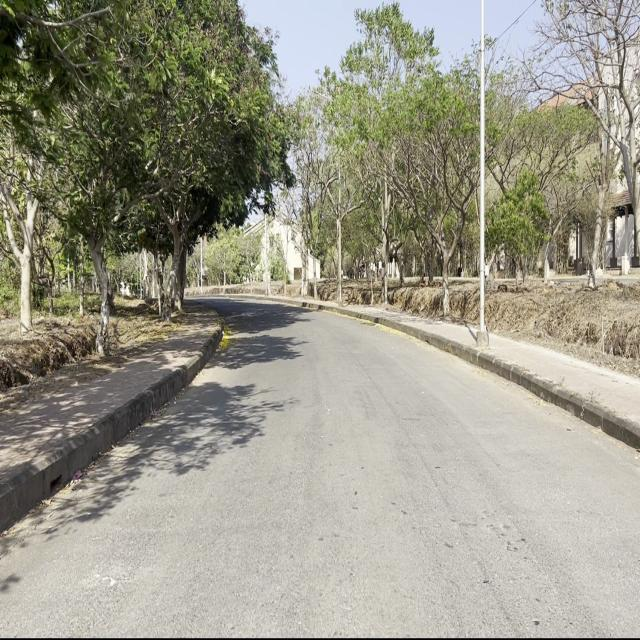Road: (3, 296, 634, 633)
